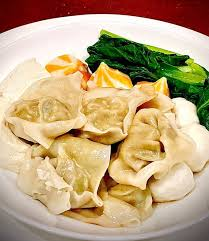Pangsit: (111, 110, 183, 187), (27, 140, 100, 214), (10, 77, 82, 144), (77, 82, 144, 139)
